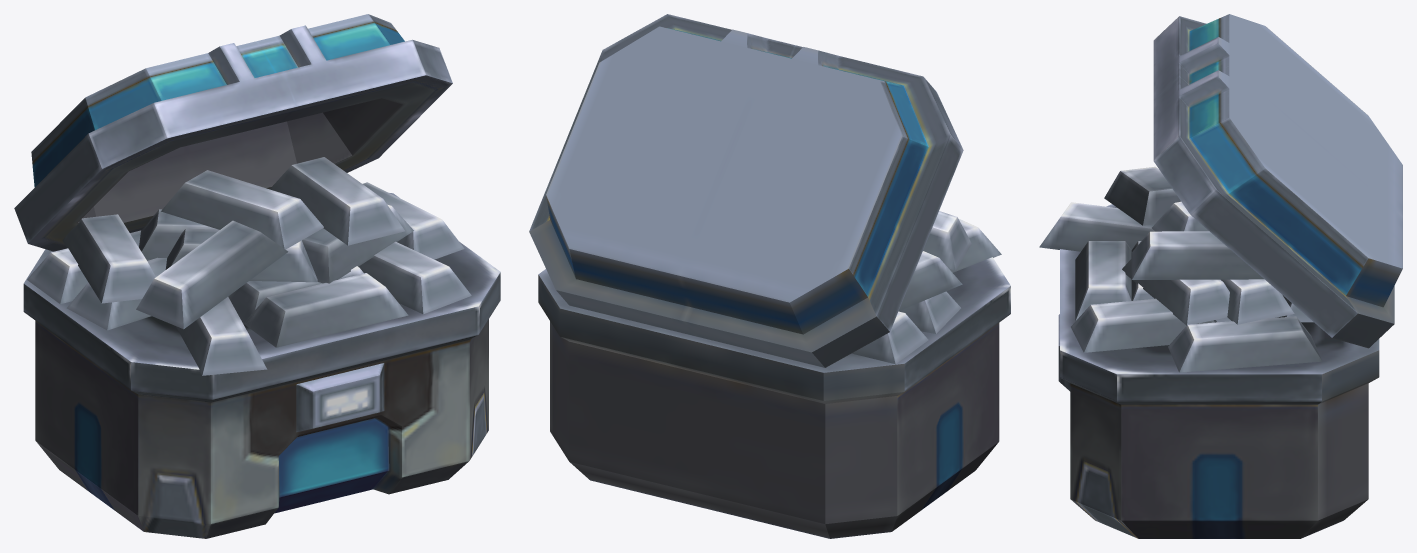
The model's file is yingbaoxiang.fbx.
3 renders of one model, left to right at view 1: azimuth 30°, elevation 25°; view 2: azimuth 150°, elevation 25°; view 3: azimuth 270°, elevation 25°, orthographic. The views are drawn at different scales.
Visible parts, largest first — view 1: yingbaoxiang; view 2: yingbaoxiang; view 3: yingbaoxiang.
Boxes of the visible parts, x1,y1,x2,y2 form: yingbaoxiang: (14, 14, 500, 538); yingbaoxiang: (529, 14, 1010, 538); yingbaoxiang: (1039, 14, 1402, 538).
Bounding box in the file's own units: 36.87 × 40.63 × 32.91.
